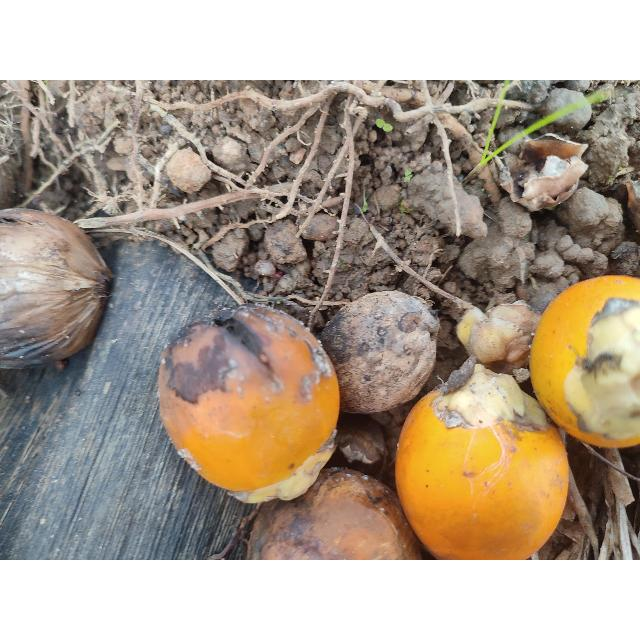damaged: (154, 307, 342, 507), (222, 463, 435, 560), (0, 209, 114, 378), (318, 292, 439, 416)
